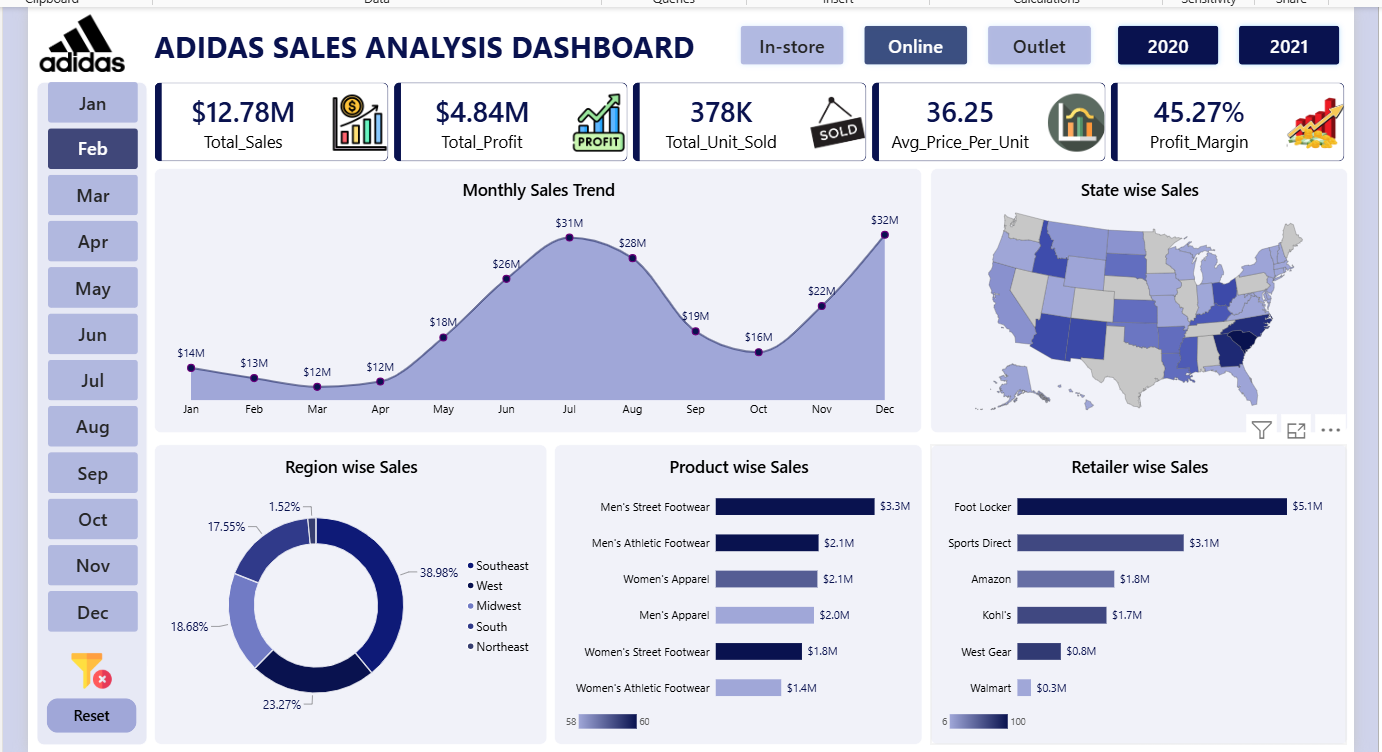

What the dashboard file says about the page in this screenshot:
{"tool":"powerbi","page":{"name":"Page 1","canvas":[1920,1080],"ordinal":0},"visuals":[{"type":"cardVisual","fields":{"Data":["Data Sales Adidas.Total_Sales","Data Sales Adidas.Total_Profit","Data Sales Adidas.Total_Unit_Sold","Data Sales Adidas.Avg_Price_Per_Unit","Data Sales Adidas.Profit_Margin"]},"box":[182.5,108.8,1727.5,116.2],"z":0},{"type":"image","box":[0,11.4,157.1,82.9],"z":1000},{"type":"textbox","box":[182.9,27.1,808.6,67.1],"z":2000},{"type":"shape","box":[12.9,108.6,160,960],"z":3000},{"type":"areaChart","title":"Monthly Sales Trend","fields":{"Category":["Data Sales Adidas.Month"],"Y":["Data Sales Adidas.Total_Sales"]},"box":[182.9,234.3,1111.4,382.9],"z":4000},{"type":"shapeMap","title":"State wise Sales","fields":{"Category":["Data Sales Adidas.State"],"Value":["Data Sales Adidas.Total_Sales"]},"box":[1305.7,234.3,604.3,382.9],"z":4001},{"type":"donutChart","title":"Region wise Sales","fields":{"Category":["Data Sales Adidas.Region"],"Y":["Data Sales Adidas.Total_Sales"]},"box":[182.9,634.3,568.6,434.3],"z":4002},{"type":"clusteredBarChart","title":"Product wise Sales","fields":{"Category":["Data Sales Adidas.Product"],"Y":["Data Sales Adidas.Total_Sales"]},"box":[761.4,634.3,532.9,434.3],"z":4003},{"type":"clusteredBarChart","title":"Retailer wise Sales","fields":{"Category":["Data Sales Adidas.Retailer"],"Y":["Data Sales Adidas.Total_Sales"]},"box":[1305.7,634.3,604.3,434.3],"z":4004},{"type":"advancedSlicerVisual","fields":{"Values":["Data Sales Adidas.Sales Method"]},"box":[1020,15.7,530,78.6],"z":4005},{"type":"advancedSlicerVisual","fields":{"Values":["Data Sales Adidas.Invoice Date.Variation.Date Hierarchy.Year"]},"box":[1567.1,15.7,342.9,78.6],"z":4006},{"type":"advancedSlicerVisual","fields":{"Values":["Data Sales Adidas.Month"]},"box":[28.6,108.6,130,807.1],"z":4007},{"type":"image","box":[60,931.4,64.3,58.6],"z":4008},{"type":"actionButton","box":[27.1,1001.4,130,50],"z":4009}]}

Visuals, with their boxes on the page's 1920x1080 design canvas (x1, y1, x2, y2). These are canvas units, not pixel positions in the 1382x752 screenshot, which may show the page scaled, cropped or inside an application window:
cardVisual - Data Sales Adidas.Total_Sales x Data Sales Adidas.Total_Profit: x1=182, y1=109, x2=1910, y2=225
image: x1=0, y1=11, x2=157, y2=94
textbox: x1=183, y1=27, x2=992, y2=94
shape: x1=13, y1=109, x2=173, y2=1069
"Monthly Sales Trend" areaChart: x1=183, y1=234, x2=1294, y2=617
"State wise Sales" shapeMap: x1=1306, y1=234, x2=1910, y2=617
"Region wise Sales" donutChart: x1=183, y1=634, x2=752, y2=1069
"Product wise Sales" clusteredBarChart: x1=761, y1=634, x2=1294, y2=1069
"Retailer wise Sales" clusteredBarChart: x1=1306, y1=634, x2=1910, y2=1069
advancedSlicerVisual - Data Sales Adidas.Sales Method: x1=1020, y1=16, x2=1550, y2=94
advancedSlicerVisual - Data Sales Adidas.Invoice Date.Variation.Date Hierarchy.Year: x1=1567, y1=16, x2=1910, y2=94
advancedSlicerVisual - Data Sales Adidas.Month: x1=29, y1=109, x2=159, y2=916
image: x1=60, y1=931, x2=124, y2=990
actionButton: x1=27, y1=1001, x2=157, y2=1051
